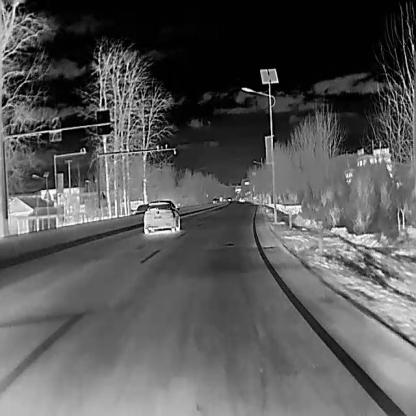car: (143, 199, 180, 233), (132, 203, 148, 215), (238, 196, 244, 202), (212, 198, 216, 202), (219, 196, 222, 201), (227, 197, 231, 200), (222, 198, 226, 200)
